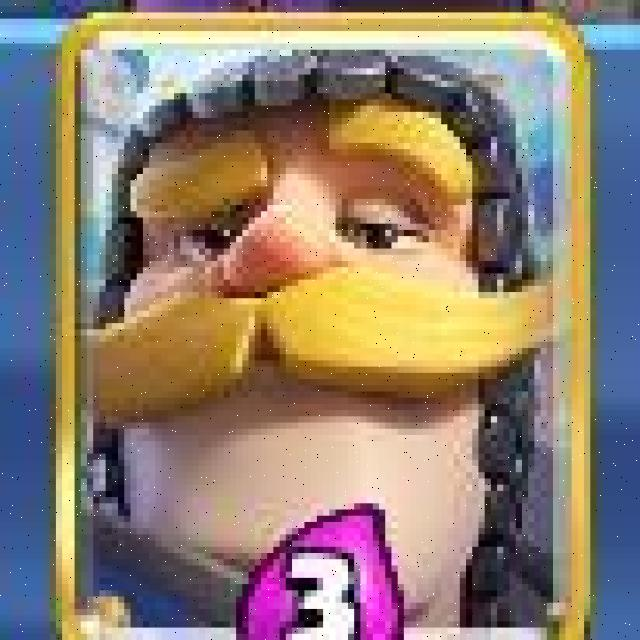Knight: (57, 15, 586, 640)
